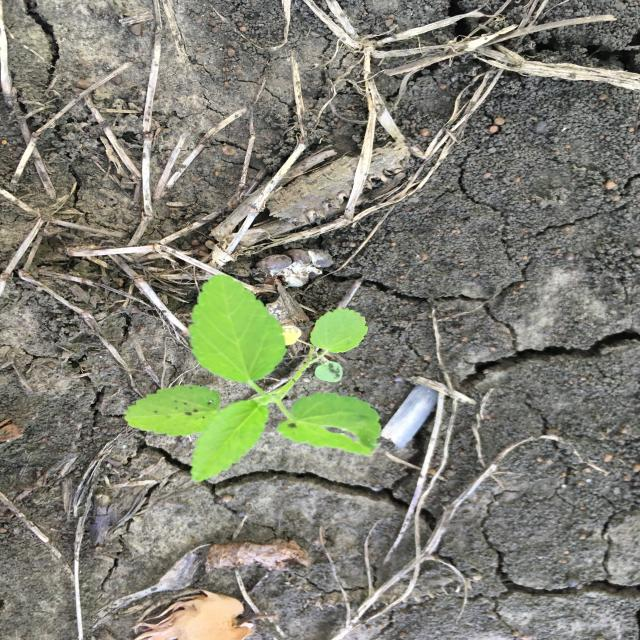PricklySida: (120, 272, 384, 484)
